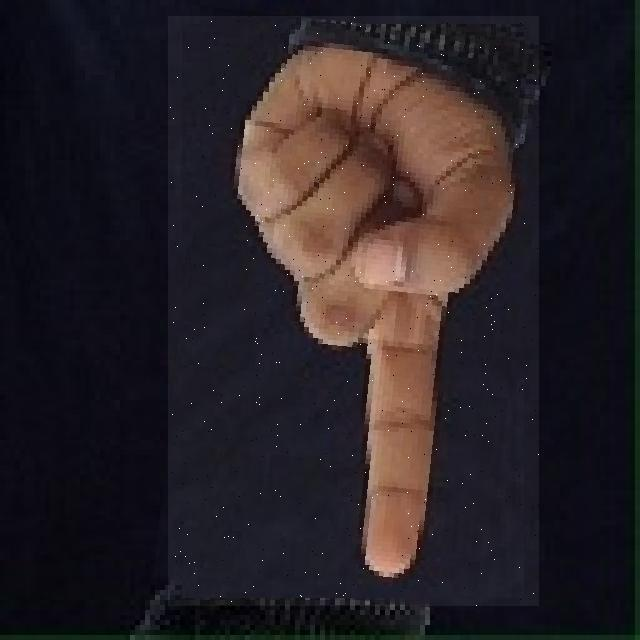IloveYou: (168, 16, 539, 606)
